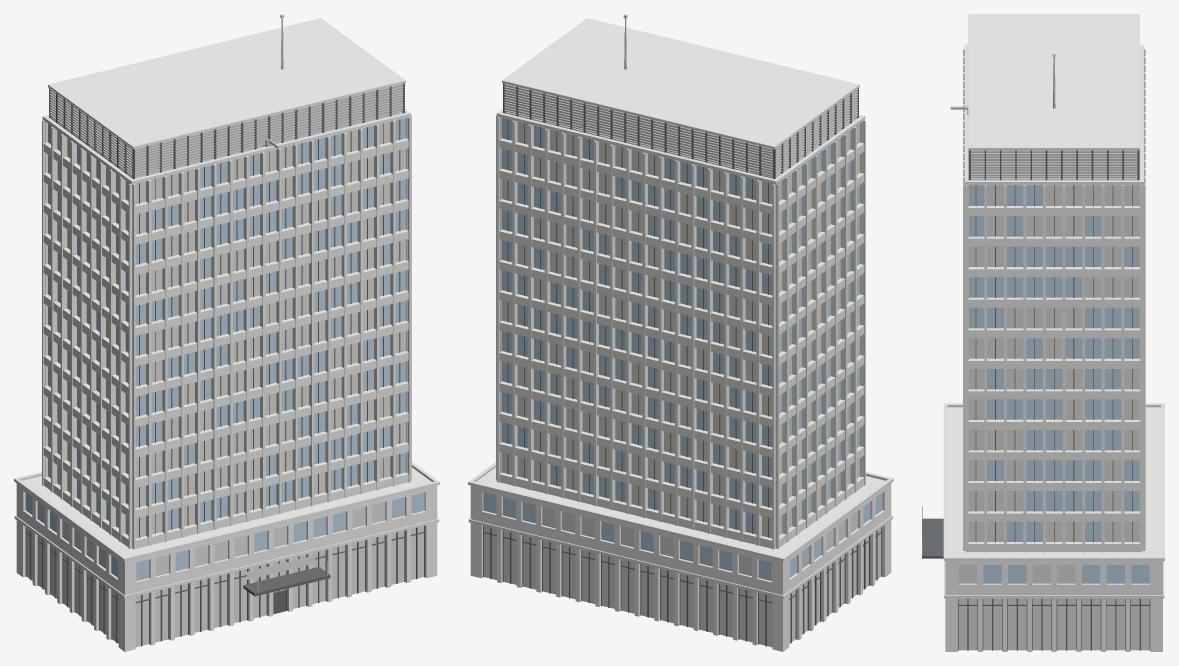
File: tower_slab210.glb
The picture shows the model from 3 angles, left to right: view 1: azimuth 30°, elevation 25°; view 2: azimuth 150°, elevation 25°; view 3: azimuth 270°, elevation 25°; orthographic projection.
Visible parts, largest first — view 1: tower_slab210_Walls, tower_slab210_WindowsLit, tower_slab210_Glass, tower_slab210_Roof, tower_slab210_Walls2, tower_slab210_Frames, tower_slab210_Details, tower_slab210_Trim, tower_slab210_Accent, tower_slab210_Brand; view 2: tower_slab210_Walls, tower_slab210_WindowsLit, tower_slab210_Glass, tower_slab210_Roof, tower_slab210_Walls2, tower_slab210_Frames, tower_slab210_Details, tower_slab210_Trim; view 3: tower_slab210_Walls, tower_slab210_Roof, tower_slab210_WindowsLit, tower_slab210_Glass, tower_slab210_Walls2, tower_slab210_Trim, tower_slab210_Frames, tower_slab210_Details, tower_slab210_Accent.
Part boxes in pixels (x1,y1,x2,y2): tower_slab210_Walls: (42,112,411,549); tower_slab210_WindowsLit: (26,122,423,647); tower_slab210_Glass: (25,118,424,580); tower_slab210_Roof: (22,19,431,556); tower_slab210_Walls2: (16,483,437,651); tower_slab210_Frames: (25,83,424,646); tower_slab210_Details: (49,18,403,592); tower_slab210_Trim: (14,18,439,598); tower_slab210_Accent: (243,567,330,596); tower_slab210_Brand: (247,555,315,579); tower_slab210_Walls: (496,112,865,549); tower_slab210_WindowsLit: (484,122,881,647); tower_slab210_Glass: (483,118,882,580); tower_slab210_Roof: (476,19,885,556); tower_slab210_Walls2: (470,483,891,651); tower_slab210_Frames: (483,83,882,646); tower_slab210_Details: (504,18,858,176); tower_slab210_Trim: (468,18,893,598); tower_slab210_Walls: (963,48,1145,552); tower_slab210_Roof: (947,14,1160,556); tower_slab210_WindowsLit: (958,185,1149,650); tower_slab210_Glass: (969,185,1149,583); tower_slab210_Walls2: (945,561,1162,651); tower_slab210_Trim: (943,14,1164,598); tower_slab210_Frames: (958,150,1150,650); tower_slab210_Details: (922,57,1137,554); tower_slab210_Accent: (922,518,943,558).
Size of the model in its own units: 141 by 234 by 93.7.
